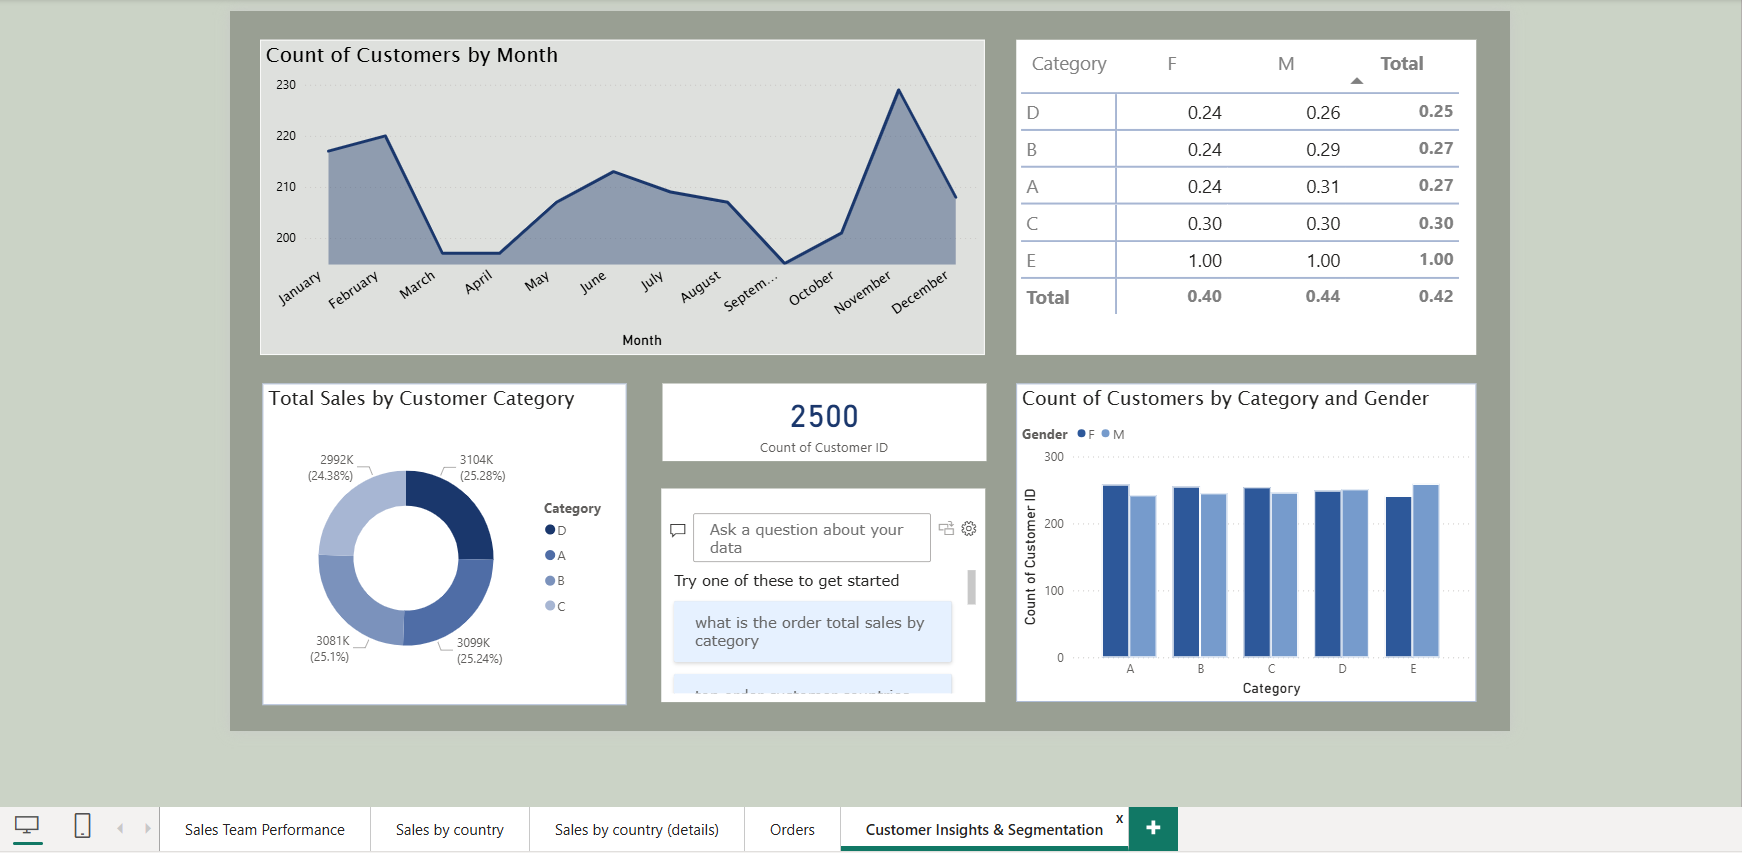

This screenshot's page, from the dashboard's own definition file:
{"tool":"powerbi","page":{"name":"Customer Insights & Segmentation","canvas":[1280,720],"ordinal":4},"visuals":[{"type":"clusteredColumnChart","title":"Count of Customers by Category and Gender","fields":{"Category":["Customers.Category"],"Series":["Customers.Gender"],"Y":["CountNonNull(Customers.Customer ID)"]},"box":[786.2,372.5,460,318.8],"z":0},{"type":"lineChart","title":"Count of Customers by Month","fields":{"Y":["CountNonNull(Orders.Customer ID)"],"Category":["Orders.Order Datetime.Variation.Date Hierarchy.Month"]},"box":[30,28.8,725,315],"z":1000},{"type":"donutChart","title":"Total Sales by Customer Category","fields":{"Category":["Customers.Category"],"Y":["Sum(Orders.Order Value)"]},"box":[32.5,372.5,363.8,321.2],"z":2000},{"type":"pivotTable","fields":{"Rows":["Customers.Category"],"Values":["Customers.% Customers Did Not Order"],"Columns":["Customers.Gender"]},"box":[786.2,28.8,460,315],"z":3000},{"type":"qnaVisual","box":[431.2,477.5,323.8,213.8],"z":5000},{"type":"card","fields":{"Values":["CountNonNull(Customers.Customer ID)"]},"box":[432.5,372.5,323.8,77.5],"z":6000}]}

Visuals, with their boxes on the page's 1280x720 design canvas (x1, y1, x2, y2). These are canvas units, not pixel positions in the 1742x853 screenshot, which may show the page scaled, cropped or inside an application window:
"Count of Customers by Category and Gender" clusteredColumnChart: (left=786, top=372, right=1246, bottom=691)
"Count of Customers by Month" lineChart: (left=30, top=29, right=755, bottom=344)
"Total Sales by Customer Category" donutChart: (left=32, top=372, right=396, bottom=694)
pivotTable - Customers.Category x Customers.% Customers Did Not Order: (left=786, top=29, right=1246, bottom=344)
qnaVisual: (left=431, top=478, right=755, bottom=691)
card - CountNonNull(Customers.Customer ID): (left=432, top=372, right=756, bottom=450)
